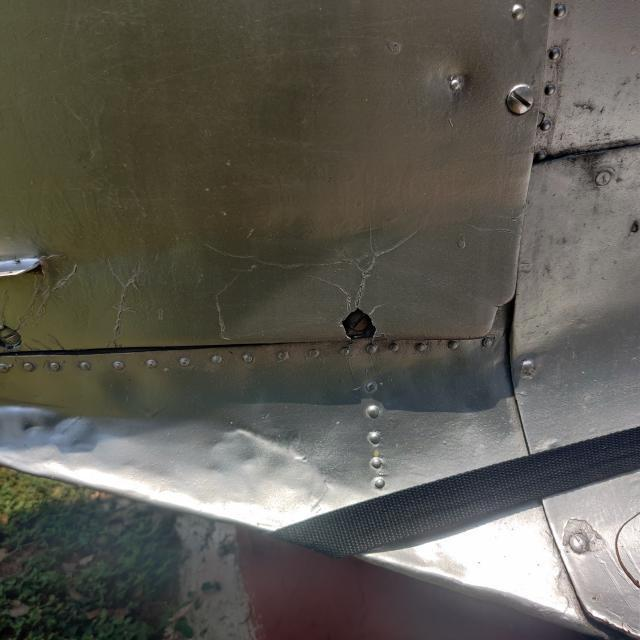Crack: (303, 217, 428, 340)
